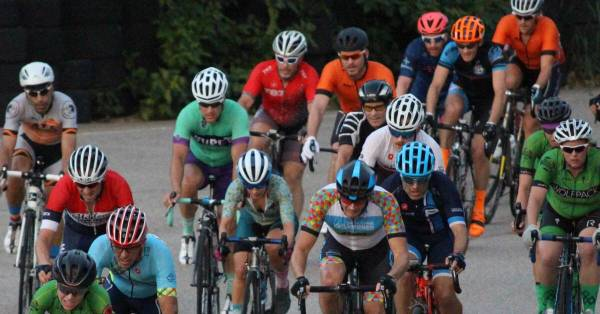helmet: (106, 204, 148, 269), (53, 249, 97, 310), (336, 160, 378, 217), (67, 144, 108, 202), (396, 141, 436, 200), (385, 93, 425, 150), (191, 66, 229, 123), (553, 118, 592, 168), (19, 61, 55, 113), (236, 148, 272, 199), (272, 30, 307, 79), (358, 79, 393, 128), (450, 15, 485, 62), (336, 27, 369, 75), (417, 12, 450, 57), (510, 1, 543, 33)
